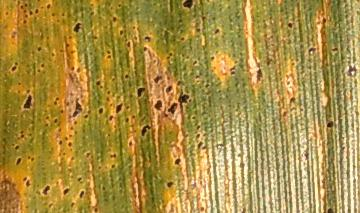tarspot: (71, 97, 83, 118), (20, 94, 34, 109), (345, 62, 358, 78), (255, 67, 265, 85), (140, 124, 152, 138), (167, 101, 179, 115), (288, 96, 298, 112), (153, 99, 164, 112), (178, 93, 189, 105), (165, 84, 175, 96), (41, 184, 51, 196), (136, 87, 146, 98), (152, 74, 162, 85), (182, 1, 194, 10), (114, 103, 123, 115), (228, 65, 237, 77), (307, 46, 317, 56), (10, 61, 19, 72), (325, 119, 334, 129), (165, 180, 175, 189), (72, 22, 80, 33), (111, 14, 119, 25), (78, 189, 86, 200), (18, 129, 26, 140), (14, 157, 23, 166), (62, 187, 71, 196), (165, 51, 174, 60), (83, 149, 92, 158), (173, 157, 181, 167), (127, 138, 135, 148), (142, 35, 151, 43), (94, 78, 102, 87), (330, 46, 339, 54), (320, 16, 328, 25), (196, 141, 204, 150), (56, 126, 64, 135), (191, 59, 199, 68), (198, 205, 207, 213), (92, 33, 100, 42), (69, 200, 77, 209), (123, 116, 130, 126), (286, 21, 294, 29), (108, 114, 116, 122), (13, 144, 21, 152), (36, 45, 44, 53), (88, 10, 96, 18), (97, 106, 104, 115), (213, 27, 220, 36), (209, 54, 216, 63), (59, 107, 66, 116), (195, 132, 201, 142), (123, 73, 130, 81), (109, 152, 117, 159), (281, 110, 288, 118), (39, 61, 46, 69), (76, 175, 83, 183), (105, 88, 112, 96), (75, 66, 82, 74), (49, 11, 57, 18), (131, 33, 138, 41), (195, 123, 201, 132), (25, 178, 31, 187), (53, 96, 59, 105), (326, 206, 333, 213), (66, 141, 73, 148), (57, 139, 64, 146), (179, 36, 186, 43), (25, 154, 32, 161), (49, 51, 56, 58), (43, 114, 50, 121), (142, 45, 148, 53), (118, 29, 124, 37), (52, 117, 58, 125), (21, 19, 29, 25), (110, 162, 116, 170), (63, 42, 71, 48), (125, 41, 131, 48), (200, 145, 207, 151), (105, 48, 112, 54), (106, 54, 112, 61), (83, 113, 90, 119), (93, 206, 99, 213), (25, 88, 32, 94), (22, 2, 29, 8), (194, 27, 201, 33), (130, 114, 137, 120), (29, 155, 35, 162), (72, 119, 78, 126), (116, 2, 122, 9), (34, 7, 39, 15), (68, 125, 76, 130), (70, 65, 75, 73), (4, 9, 9, 17), (45, 3, 51, 9), (190, 115, 196, 121), (67, 133, 73, 139), (43, 122, 49, 128), (28, 9, 33, 16), (73, 129, 78, 135), (16, 81, 23, 85)
